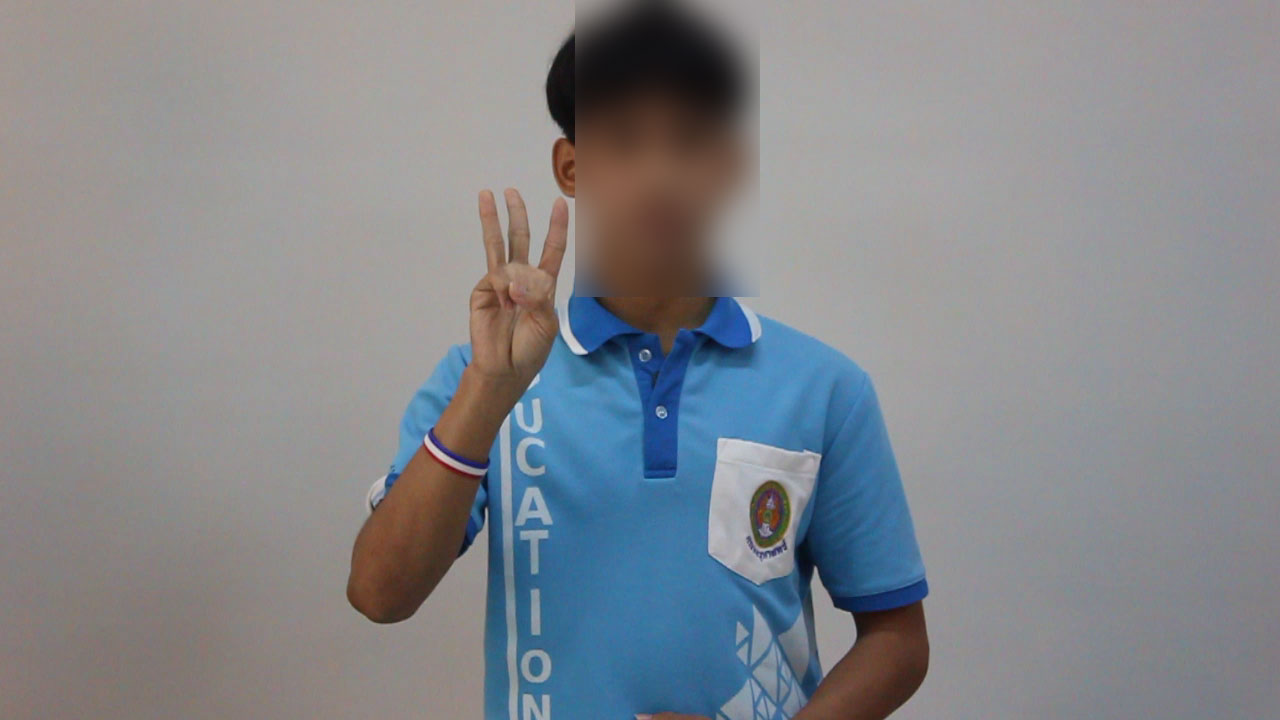wor: (460, 174, 575, 400)
